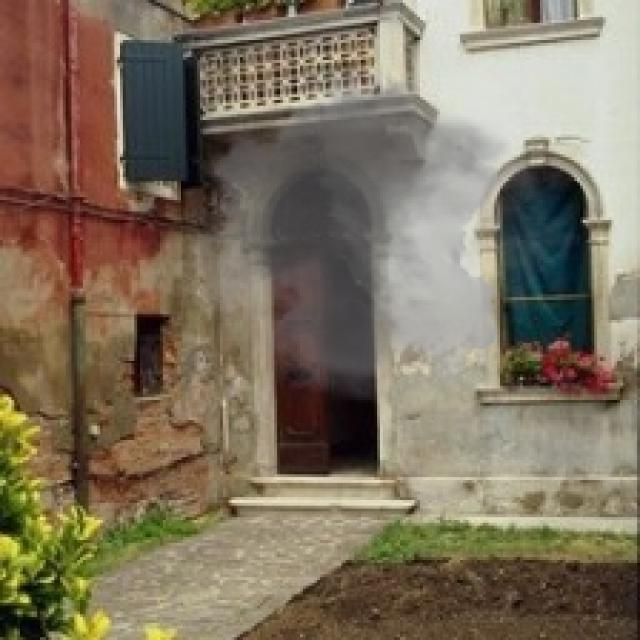Smoke: (168, 54, 583, 403)
